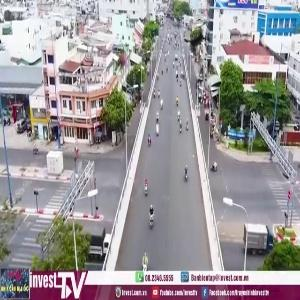drone: (172, 12, 224, 64)
